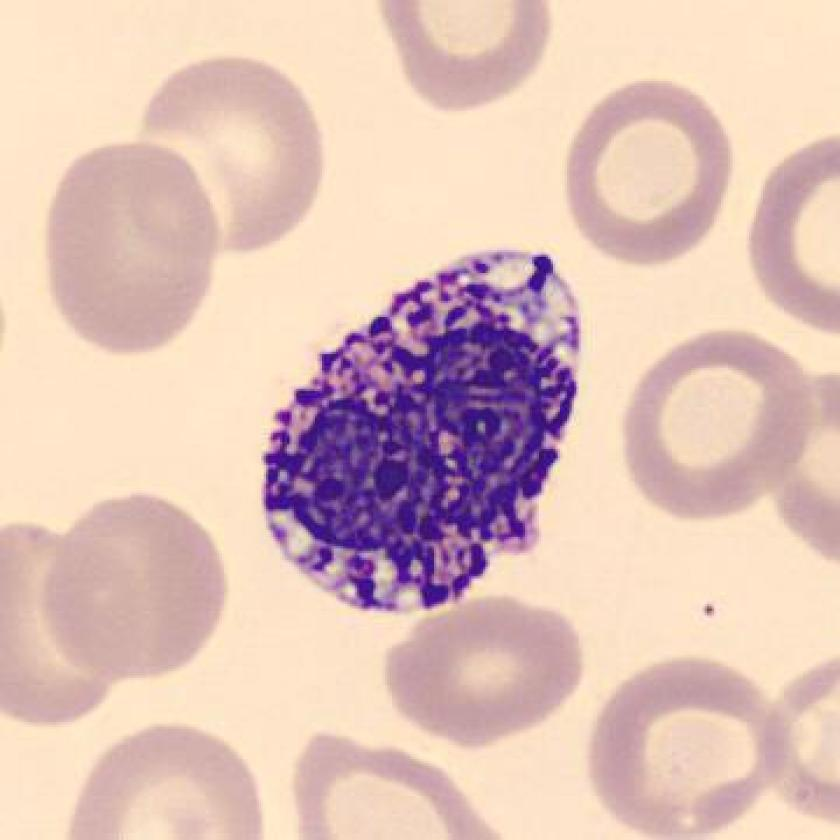basophil: (251, 240, 610, 617)
